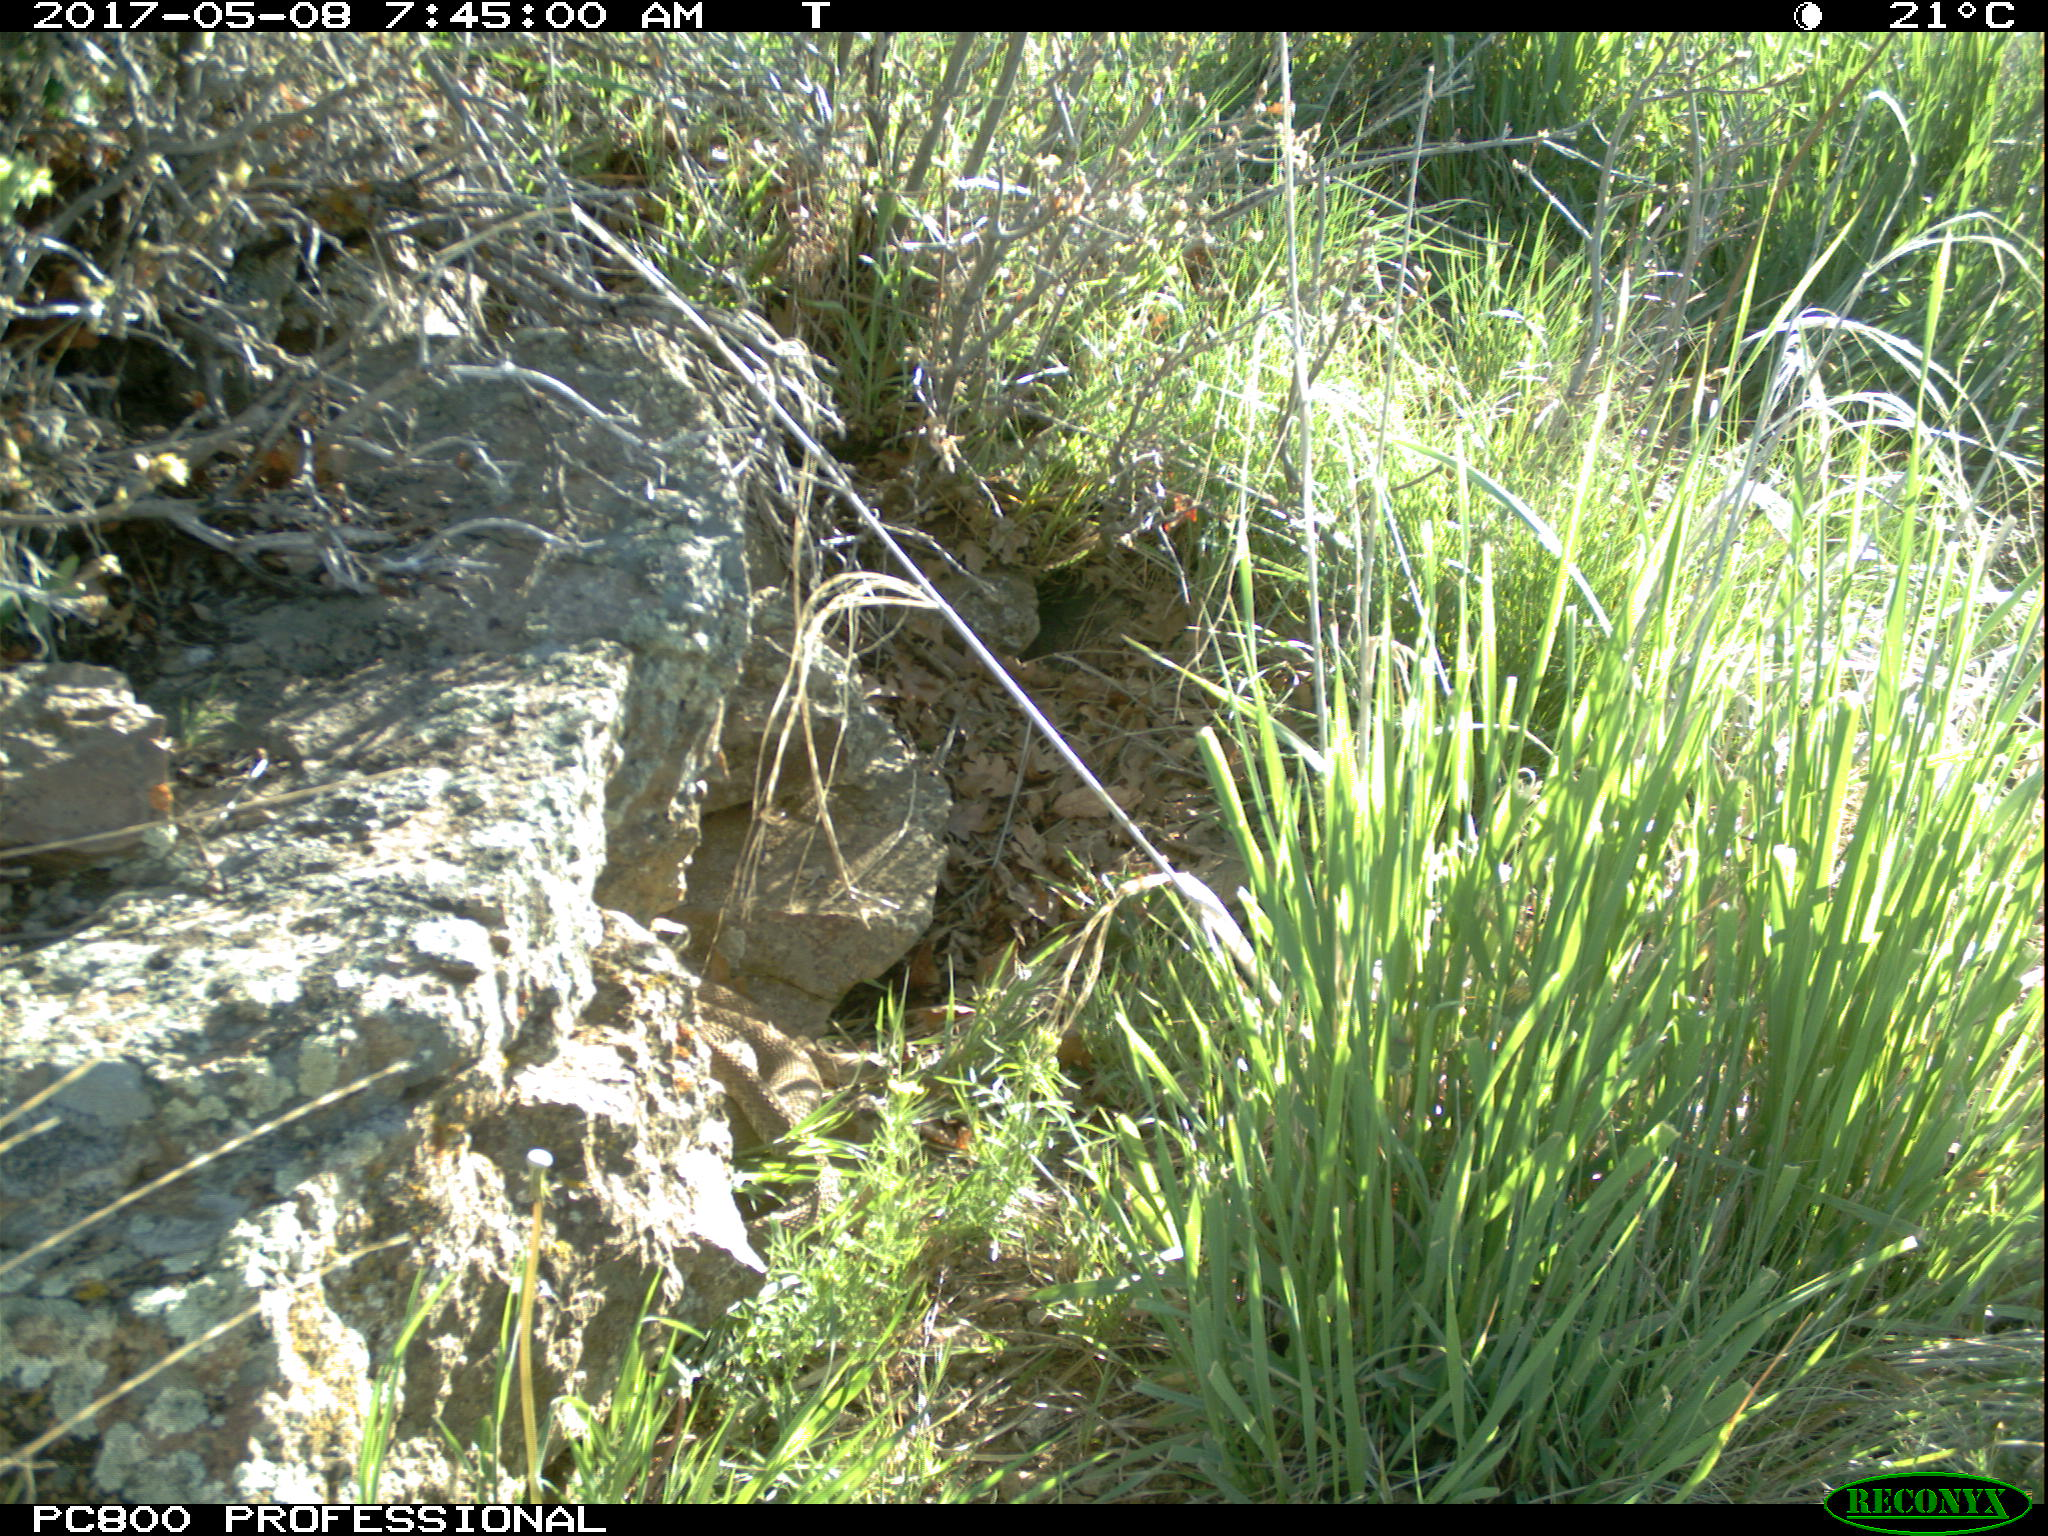snake: (690, 976, 847, 1170)
